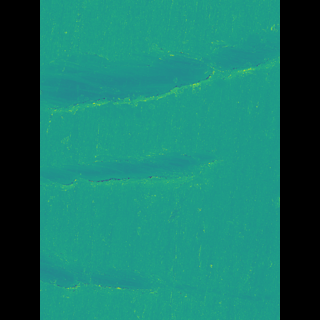Loch: (68, 20, 248, 115), (69, 244, 248, 318), (70, 140, 208, 194)
